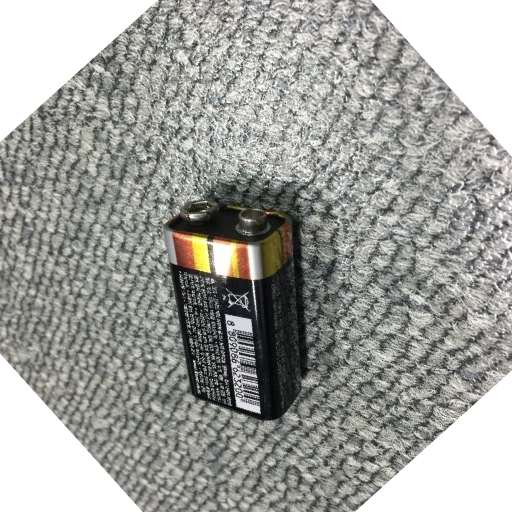Battery_3: (151, 189, 321, 429)
